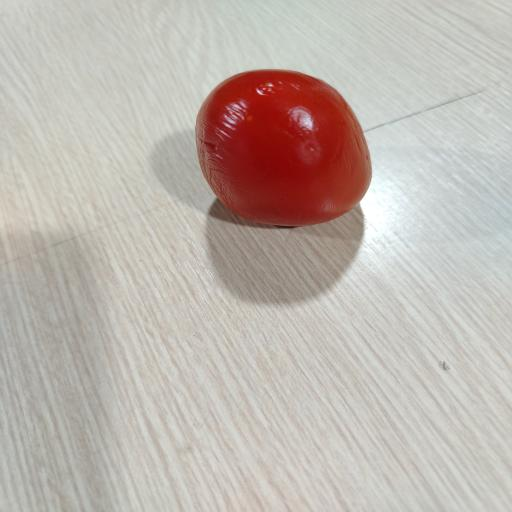spoiled: (196, 70, 371, 226)
